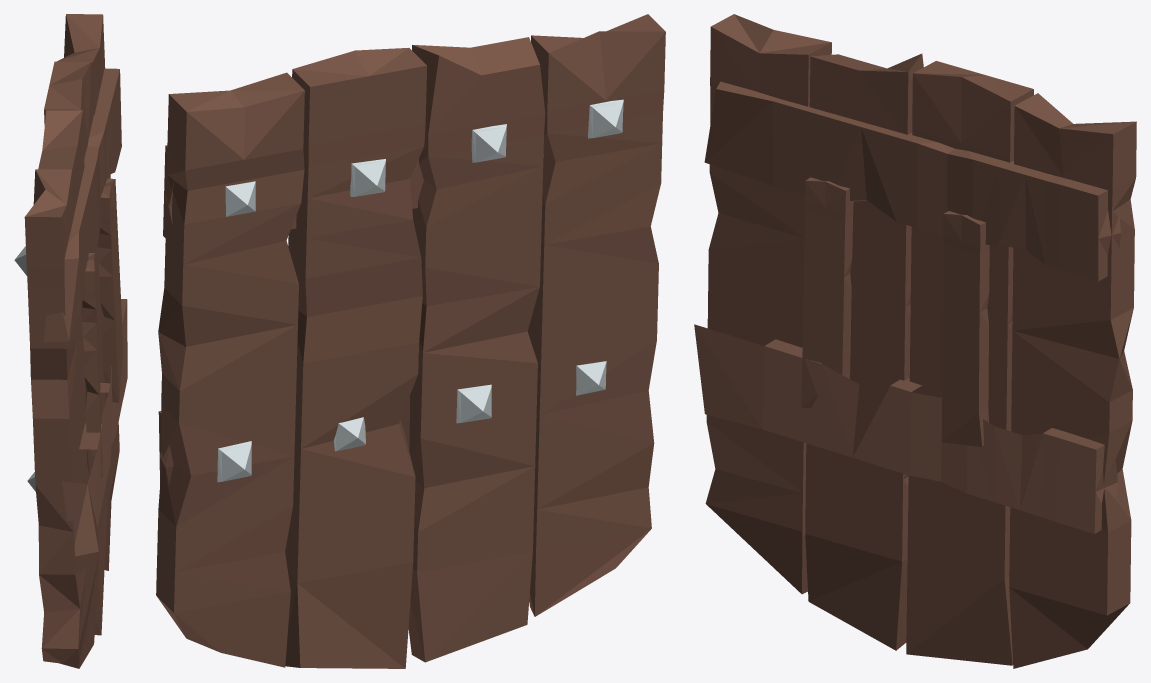
File: wodden-schild-by-jakob-hippe-aypcQ3X_lZa.glb
3 renders of one model, left to right at view 1: azimuth 30°, elevation 25°; view 2: azimuth 150°, elevation 25°; view 3: azimuth 270°, elevation 25°, orthographic. The views are drawn at different scales.
Visible parts, largest first — view 1: group2122289963, group77174678, group742887956, group534155011, group118214733, group1844920582, group380498427, group738003073, group1741486156; view 2: group380498427, group118214733, group534155011, group2122289963, group607809711, group823676172, group344260847, group1741486156, group359645490, group79600536, group77174678, group1135920716 (+2 smaller); view 3: group380498427, group118214733, group2122289963, group534155011, group77174678, group742887956, group1844920582, group738003073.
Part boxes in pixels (x1,y1,x2,y2): group2122289963: [24, 169, 88, 666]; group77174678: [43, 68, 121, 342]; group742887956: [62, 299, 127, 556]; group534155011: [38, 110, 99, 668]; group118214733: [44, 61, 107, 635]; group1844920582: [97, 178, 123, 402]; group380498427: [56, 14, 119, 570]; group738003073: [82, 253, 102, 477]; group1741486156: [14, 246, 26, 275]; group380498427: [156, 72, 304, 667]; group118214733: [285, 48, 427, 668]; group534155011: [408, 37, 545, 662]; group2122289963: [527, 14, 665, 616]; group607809711: [456, 384, 491, 423]; group823676172: [217, 441, 251, 482]; group344260847: [350, 159, 385, 196]; group1741486156: [588, 99, 623, 138]; group359645490: [471, 124, 506, 162]; group79600536: [225, 181, 255, 216]; group77174678: [163, 145, 544, 237]; group1135920716: [576, 361, 606, 395]; group380498427: [1009, 93, 1136, 668]; group118214733: [906, 61, 1033, 665]; group2122289963: [705, 14, 831, 594]; group534155011: [805, 53, 923, 650]; group77174678: [704, 81, 1120, 281]; group742887956: [694, 324, 1117, 533]; group1844920582: [941, 211, 989, 446]; group738003073: [801, 177, 853, 408].
Bounding box in the file's own units: 0.7247 × 1.38 × 0.9502.
